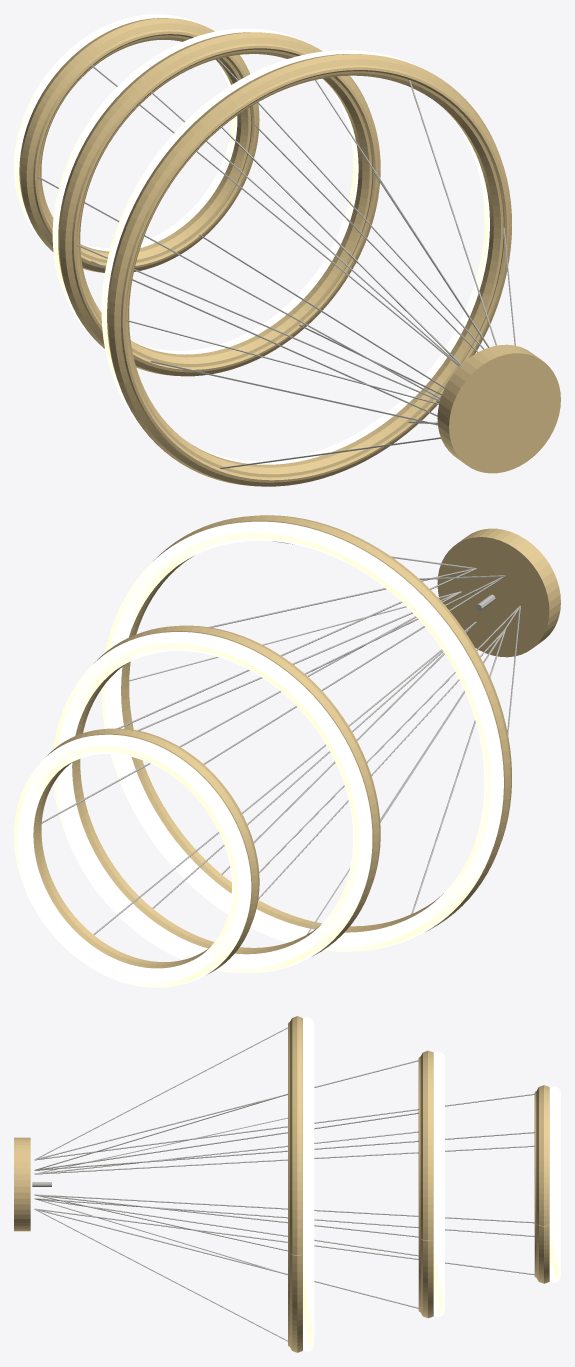
The model's file is velar.glb.
3 views of the same model, one above another, from view 1: azimuth 30°, elevation 25°; view 2: azimuth 150°, elevation 25°; view 3: azimuth 270°, elevation 25° (orthographic). The views are drawn at different scales.
Parts seen in each view (by area): view 1: Ring_1_Metal, Ring_2_Metal, Ceiling_Canopy, Ring_3_Metal, Ring_1_Trim, Ring_1_LED, Ring_2_Trim, Ring_2_LED, Ring_3_LED, Ring_3_Trim, suspension_3_3, suspension_3_2 (+11 smaller); view 2: Ring_1_LED, Ring_2_LED, Ring_3_LED, Ceiling_Canopy, Ring_1_Metal, Ring_2_Metal, Ring_3_Metal, suspension_3_5, suspension_3_0, suspension_3_1, suspension_2_5, suspension_2_0 (+2 smaller); view 3: Ring_1_Metal, Ring_1_LED, Ring_2_Metal, Ring_2_LED, Ring_3_Metal, Ring_3_LED, Ceiling_Canopy, suspension_3_3, suspension_3_2, suspension_3_1, suspension_3_0, suspension_3_5 (+14 smaller).
Part boxes in pixels (<box>): Ring_1_Metal: <box>107,54,511,486</box>; Ring_2_Metal: <box>58,32,380,376</box>; Ceiling_Canopy: <box>437,344,560,473</box>; Ring_3_Metal: <box>19,18,259,272</box>; Ring_1_Trim: <box>121,65,508,482</box>; Ring_1_LED: <box>101,50,489,464</box>; Ring_2_Trim: <box>72,44,377,372</box>; Ring_2_LED: <box>52,28,358,354</box>; Ring_3_LED: <box>14,14,237,251</box>; Ring_3_Trim: <box>33,29,256,268</box>; suspension_3_3: <box>37,176,440,399</box>; suspension_3_2: <box>91,65,459,366</box>; Ring_1_LED: <box>101,521,503,951</box>; Ring_2_LED: <box>53,632,372,973</box>; Ring_3_LED: <box>14,734,251,987</box>; Ceiling_Canopy: <box>437,528,560,657</box>; Ring_1_Metal: <box>121,515,511,932</box>; Ring_2_Metal: <box>72,625,380,956</box>; Ring_3_Metal: <box>33,728,259,974</box>; suspension_3_5: <box>93,621,476,934</box>; suspension_3_0: <box>42,591,461,823</box>; suspension_3_1: <box>117,568,476,728</box>; suspension_2_5: <box>152,624,474,908</box>; suspension_2_0: <box>137,592,458,730</box>; Ring_1_Metal: <box>289,1016,302,1352</box>; Ring_1_LED: <box>303,1017,314,1351</box>; Ring_2_Metal: <box>420,1050,433,1318</box>; Ring_2_LED: <box>433,1051,444,1317</box>; Ring_3_Metal: <box>536,1085,549,1283</box>; Ring_3_LED: <box>549,1086,560,1282</box>; Ceiling_Canopy: <box>14,1137,30,1231</box>; suspension_3_3: <box>34,1145,534,1174</box>; suspension_3_2: <box>35,1093,534,1160</box>; suspension_3_1: <box>35,1132,534,1170</box>; suspension_3_0: <box>35,1194,534,1223</box>; suspension_3_5: <box>35,1208,534,1274</box>.
Bounding box in the file's own units: 1.37 × 1.37 × 2.22.
